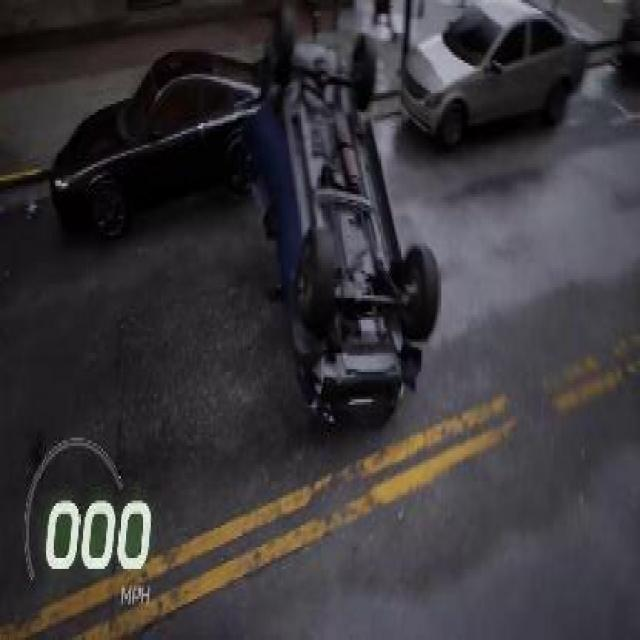accident: (46, 30, 445, 429)
